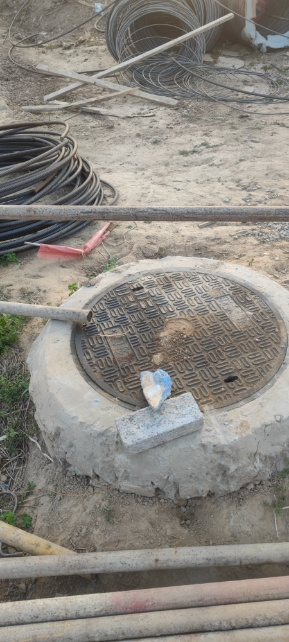good: (27, 256, 289, 499)
